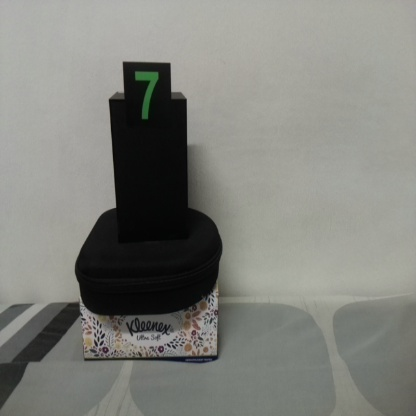id_7: (123, 63, 172, 139)
